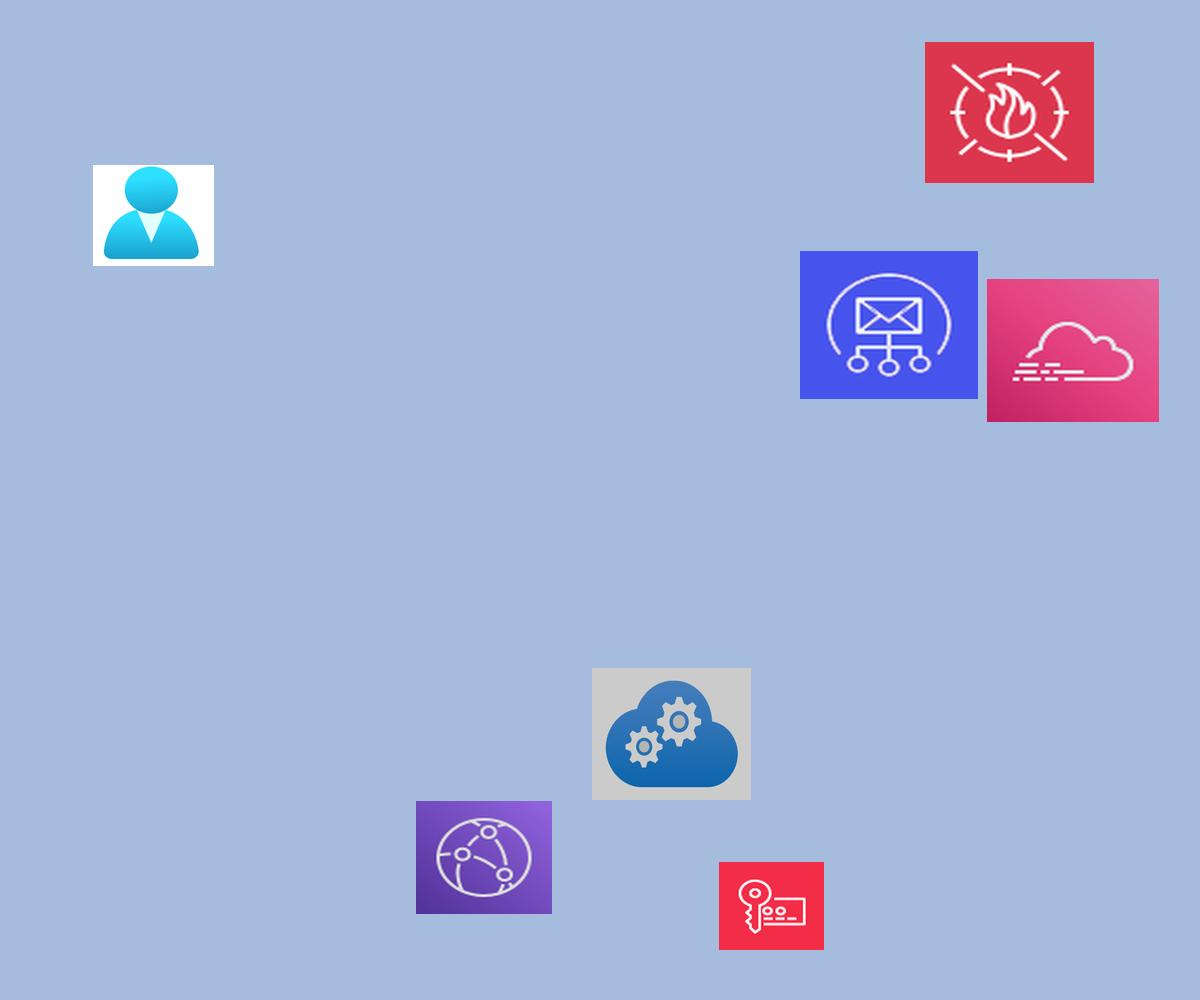AWS-CloudFront: (416, 801, 552, 914)
AWS-CloudTrail: (987, 279, 1159, 422)
AWS-Key-Management-Service: (719, 862, 824, 950)
AWS-Simple-Email-Service: (800, 251, 978, 399)
AWS-WAF: (925, 42, 1094, 183)
Azure_cloud_services: (592, 668, 751, 800)
Azure_users: (93, 165, 214, 266)
